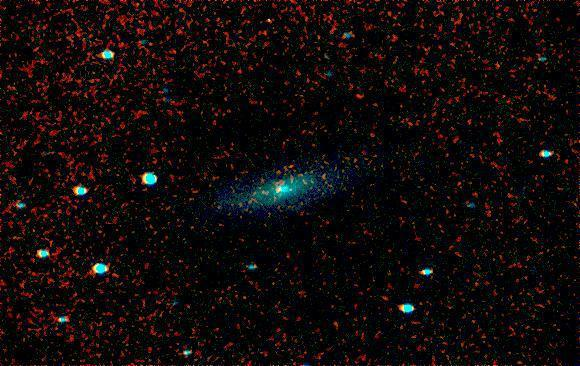star: (276, 174, 306, 204)
